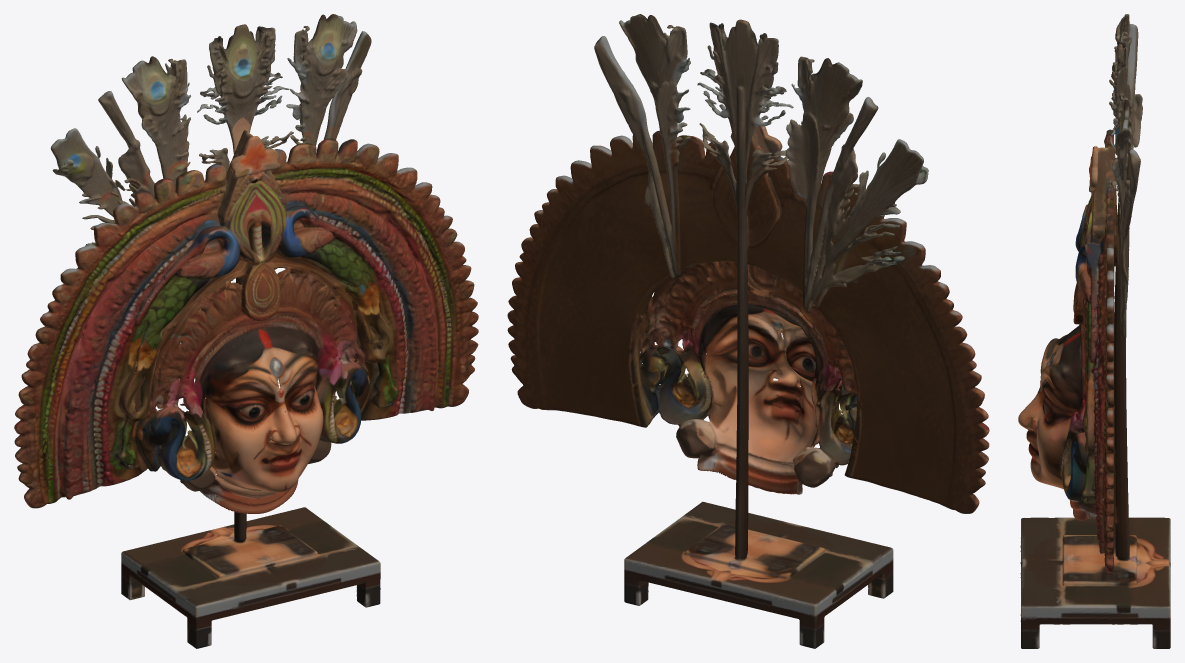
File: Chhau Mask.glb
3 views of the same model, side by side, from view 1: azimuth 30°, elevation 25°; view 2: azimuth 150°, elevation 25°; view 3: azimuth 270°, elevation 25° (orthographic). The views are drawn at different scales.
Visible parts, largest first — view 1: tripo_node_80f7a9b1-8ebf-4dbe-a71d-19ab0a21f7fa; view 2: tripo_node_80f7a9b1-8ebf-4dbe-a71d-19ab0a21f7fa; view 3: tripo_node_80f7a9b1-8ebf-4dbe-a71d-19ab0a21f7fa.
Part boxes in pixels (x1,y1,x2,y2): tripo_node_80f7a9b1-8ebf-4dbe-a71d-19ab0a21f7fa: [14, 14, 478, 648]; tripo_node_80f7a9b1-8ebf-4dbe-a71d-19ab0a21f7fa: [507, 14, 989, 648]; tripo_node_80f7a9b1-8ebf-4dbe-a71d-19ab0a21f7fa: [1018, 14, 1170, 648].
Size of the model in its own units: 0.8586 by 1 by 0.2466.
Materials: 1 (1 with a texture image).
